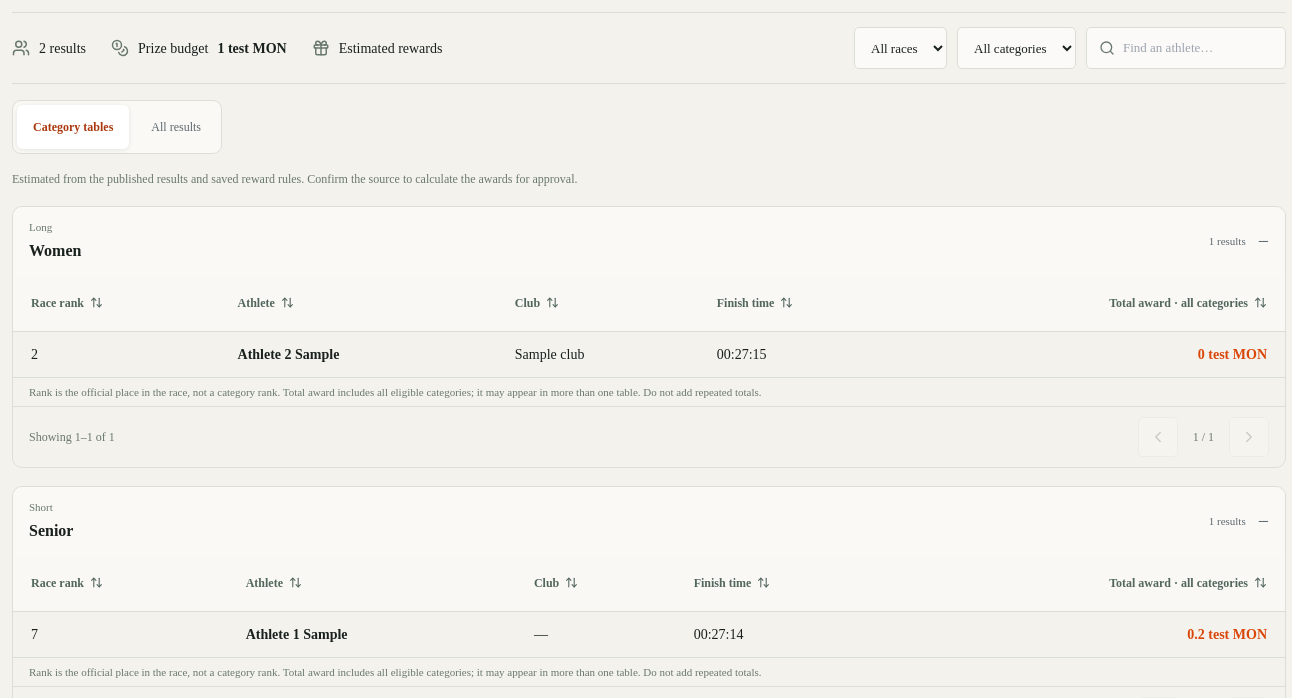
it: separates race/category tables while preserving overlapping membership, official rank and one full-pot total
The width and height of the screenshot is (1292, 698).
Expected: the column heading "Athlete 1 Sample" is shown, x1=228 y1=611 x2=516 y2=657
Expected: the table named "Long · Women" is shown, x1=13 y1=274 x2=1285 y2=406
Click the button "All results": coordinates (176, 127) x1=135 y1=105 x2=217 y2=149
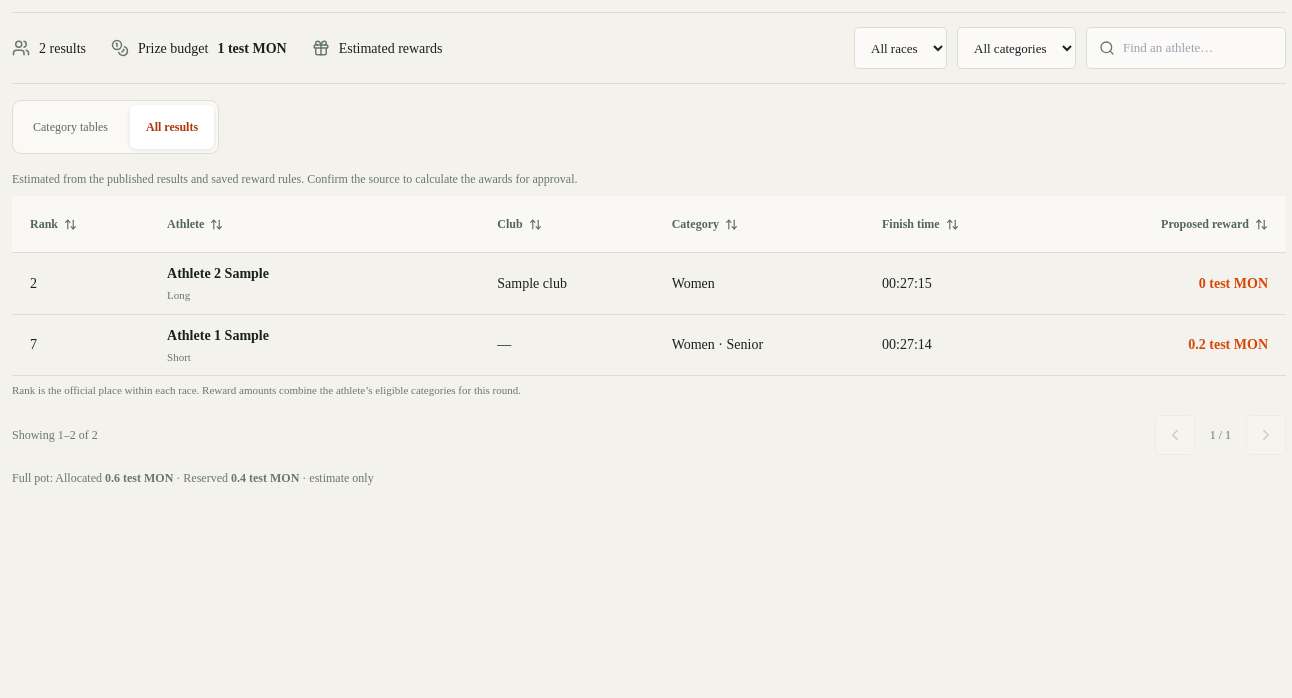
Result: the number of column headings "Athlete 1 Sample Short" is 1 at x1=149 y1=314 x2=479 y2=376
